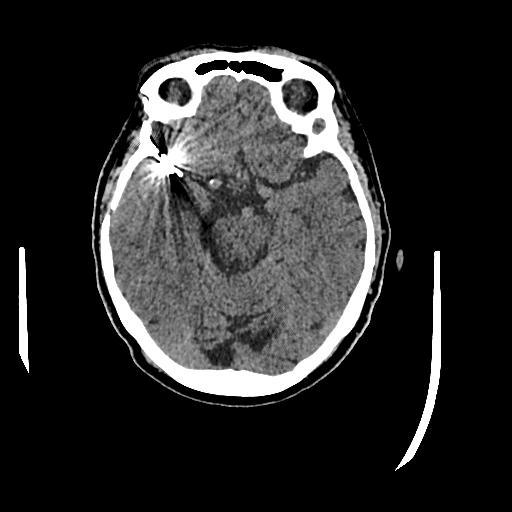Aneurysm: (138, 137, 196, 191)
